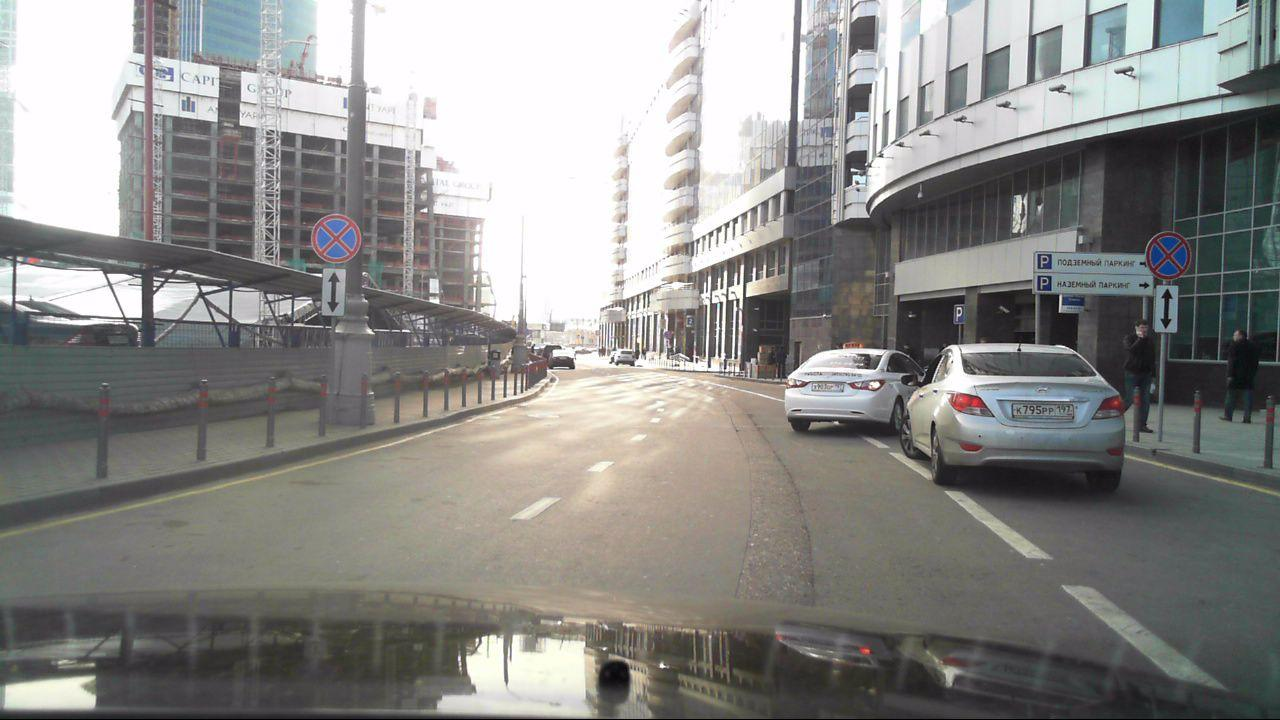3_27: (310, 214, 364, 264), (1144, 229, 1191, 282), (663, 329, 672, 339)
6_10_1: (1033, 250, 1153, 294)
6_4: (1038, 252, 1051, 271), (953, 304, 966, 323), (1039, 275, 1050, 291)
8_2_4: (1153, 284, 1180, 333), (320, 268, 346, 313), (665, 339, 670, 348)
